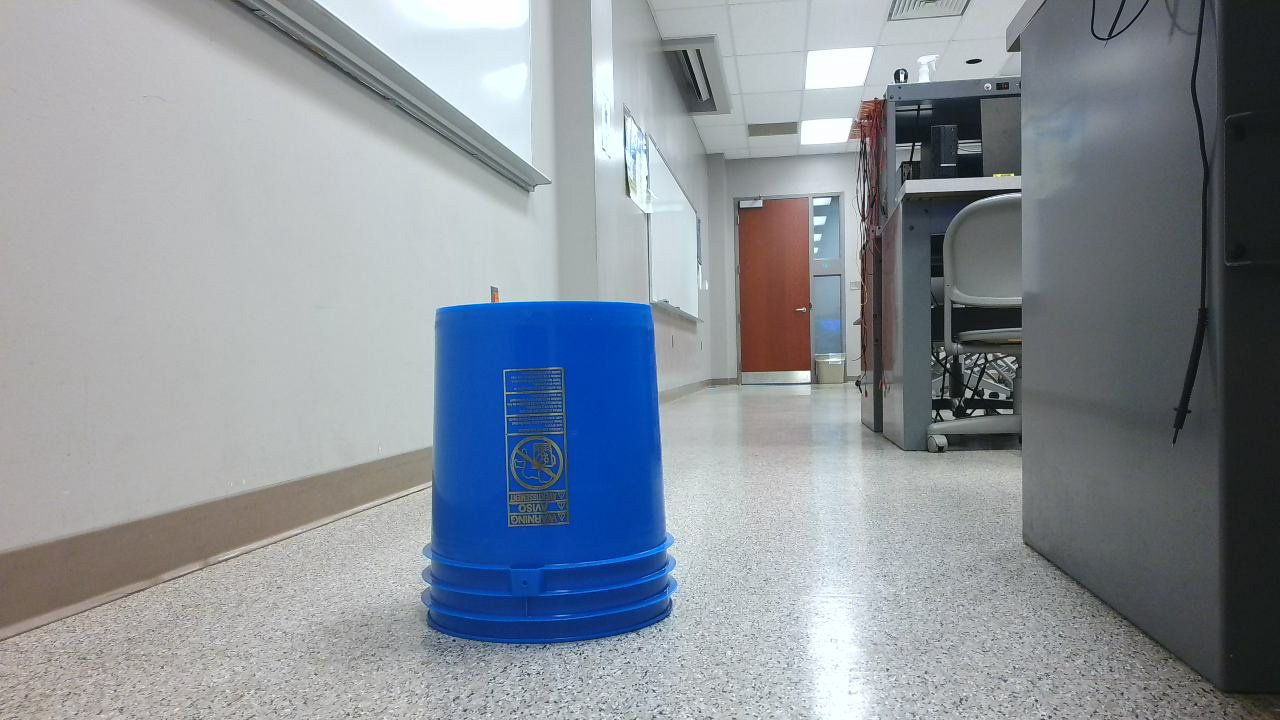blue_bucket: (422, 302, 689, 656)
